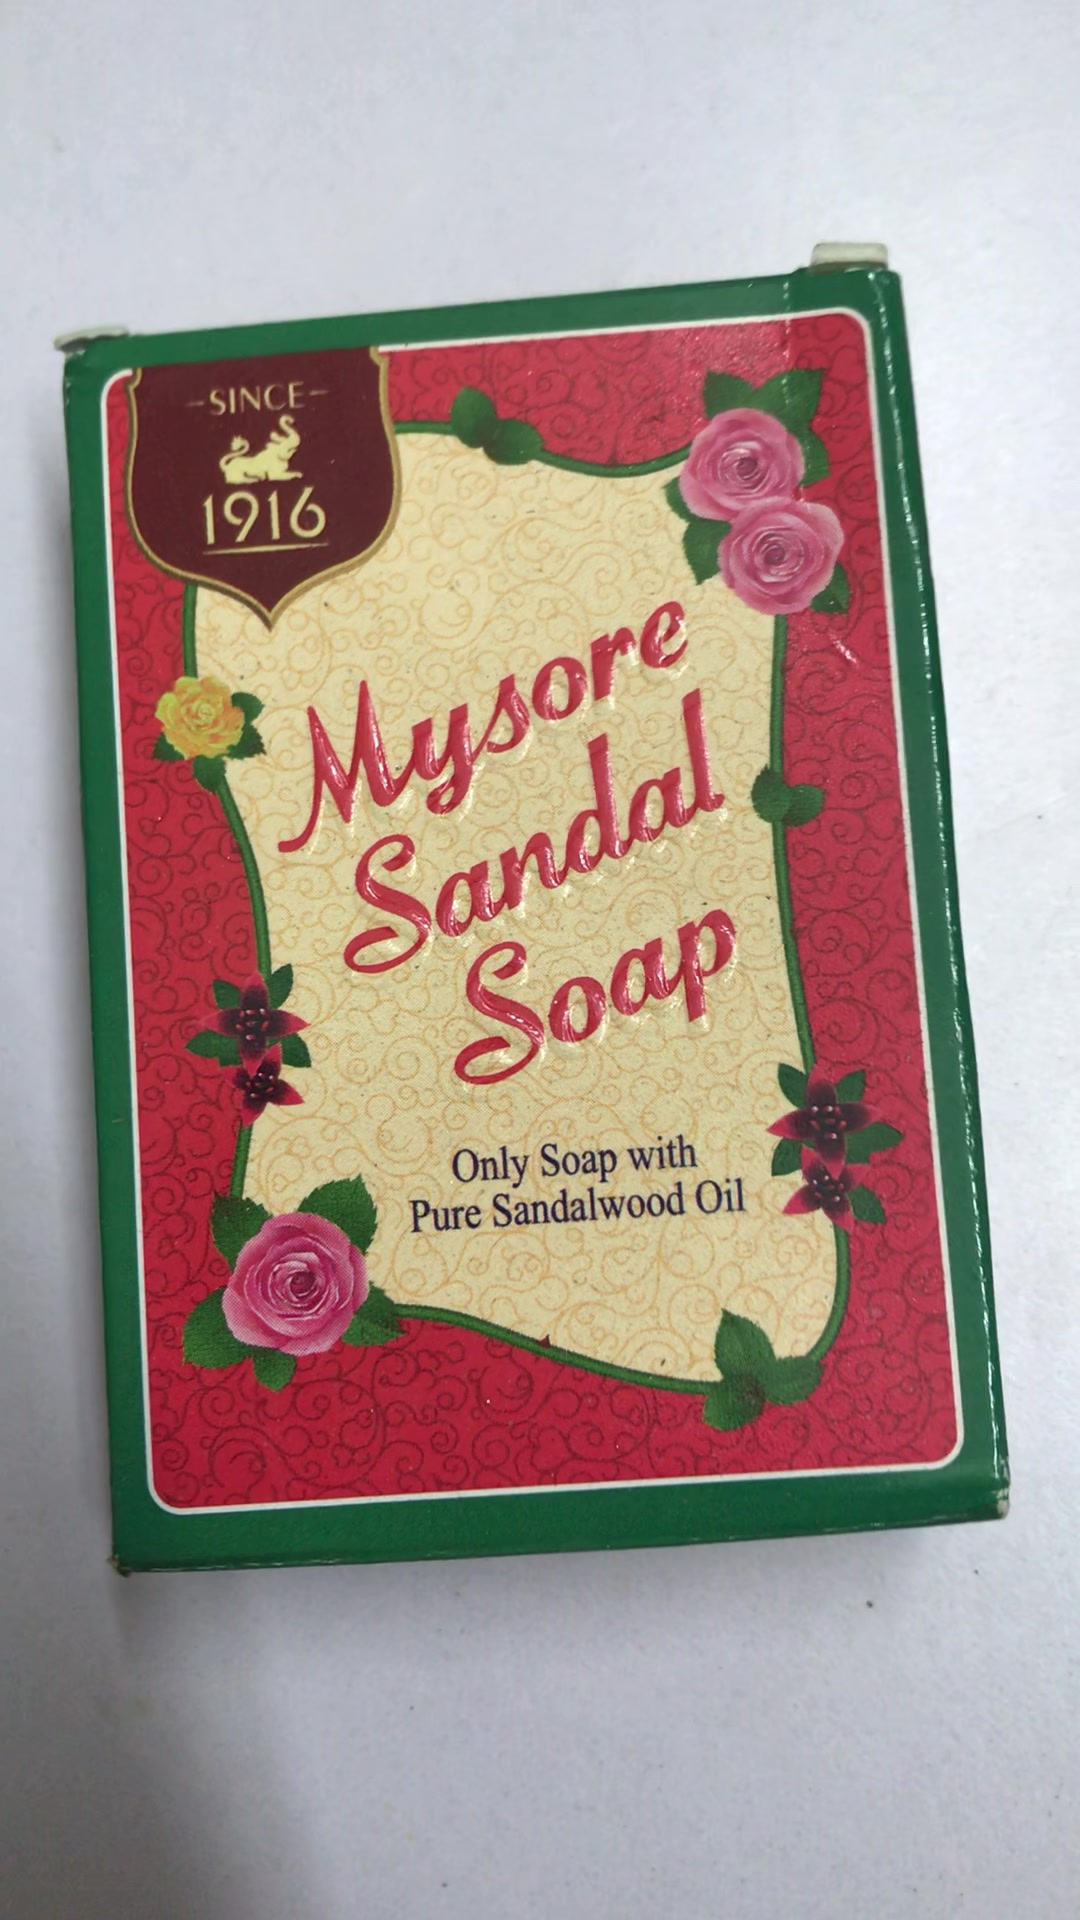mysore sandal soap: (53, 244, 1018, 1567)
